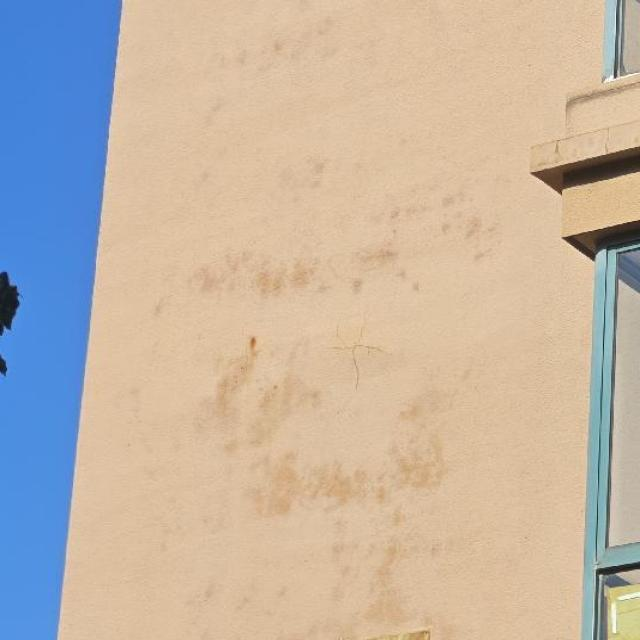hollowing: (316, 314, 404, 398)
